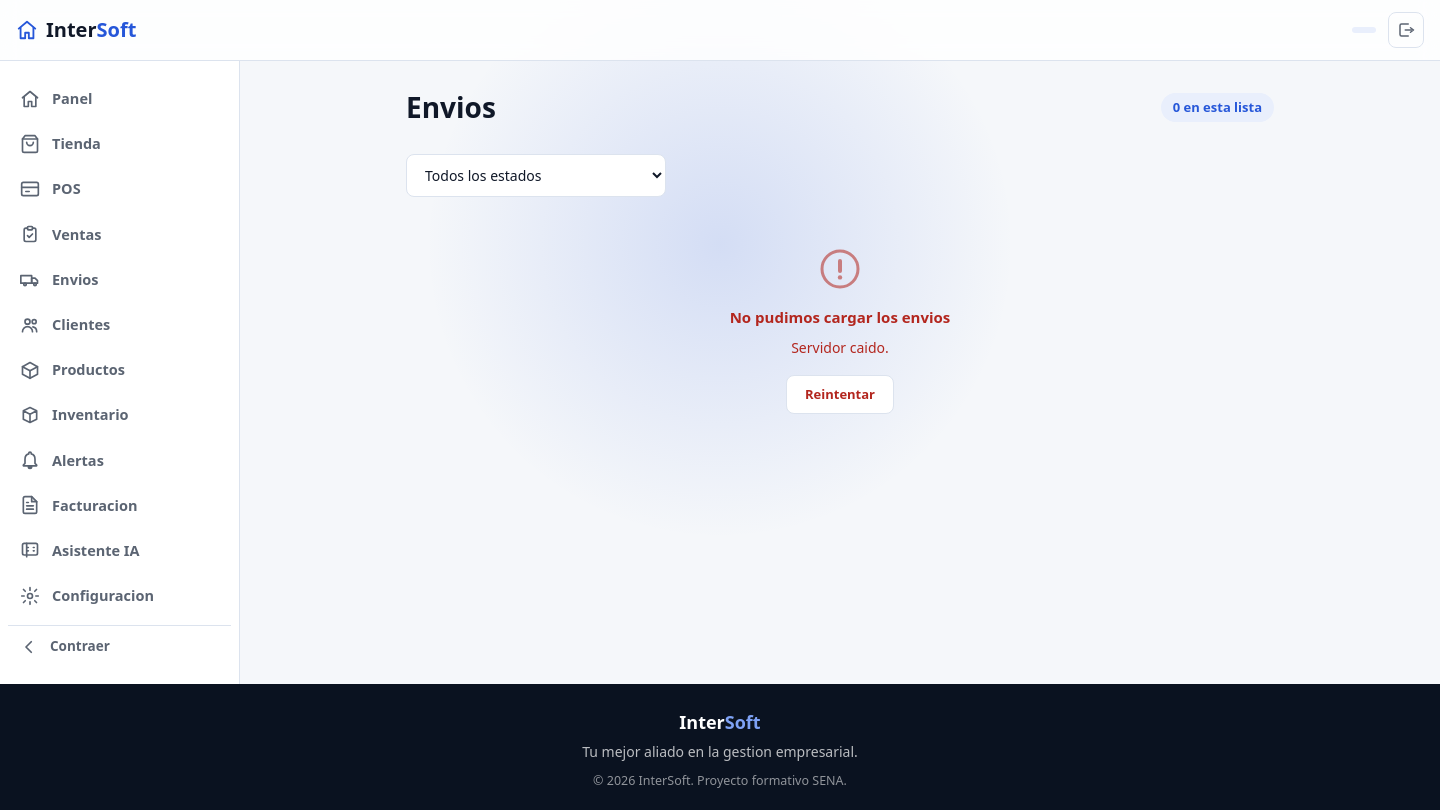
Test: EnviosComponent › muestra error con reintento cuando falla la carga
Step 1. Click the button "Reintentar" → (840, 395), box left=786, top=375, right=894, bottom=414
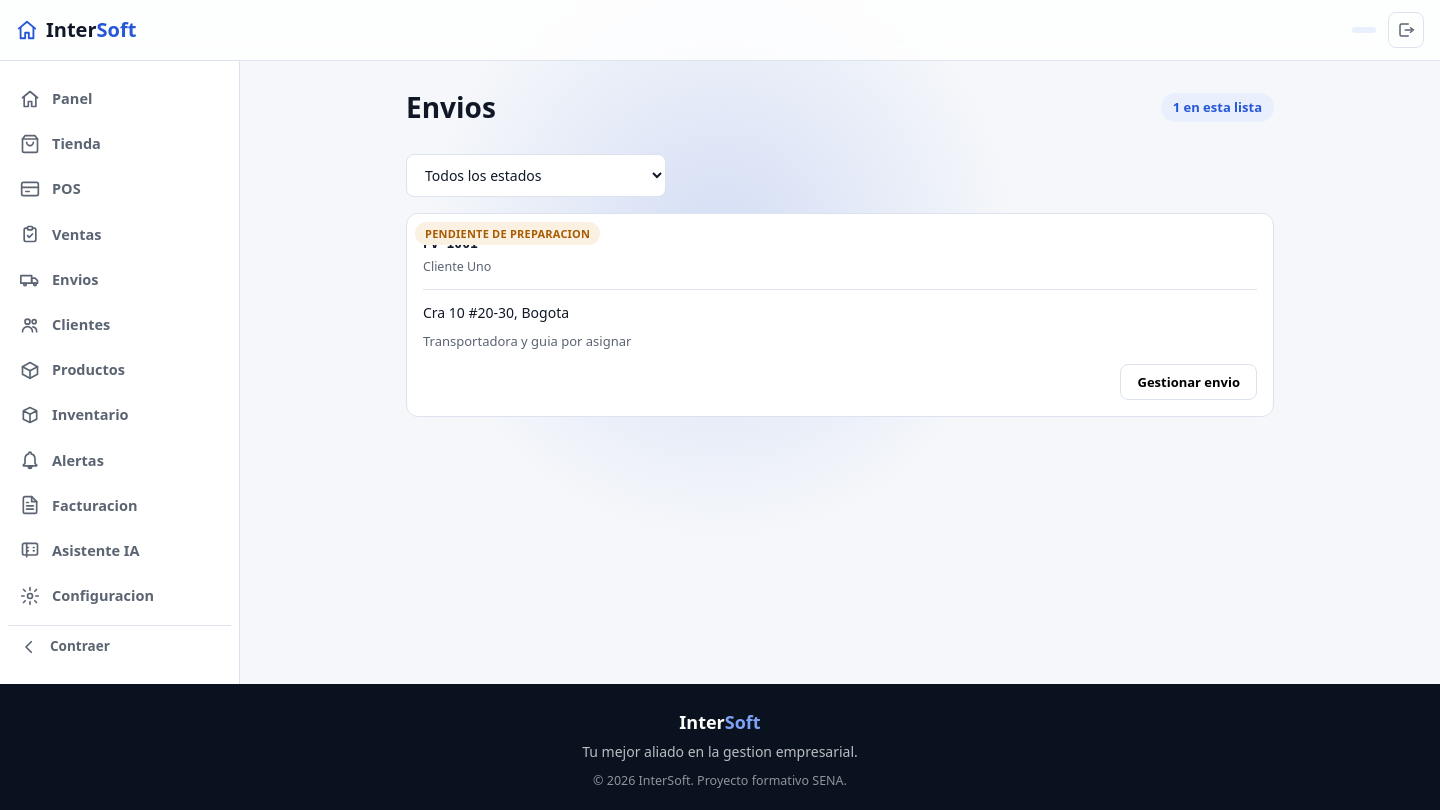
Expected: the text "FV-1001" is shown, left=423, top=236, right=478, bottom=251
